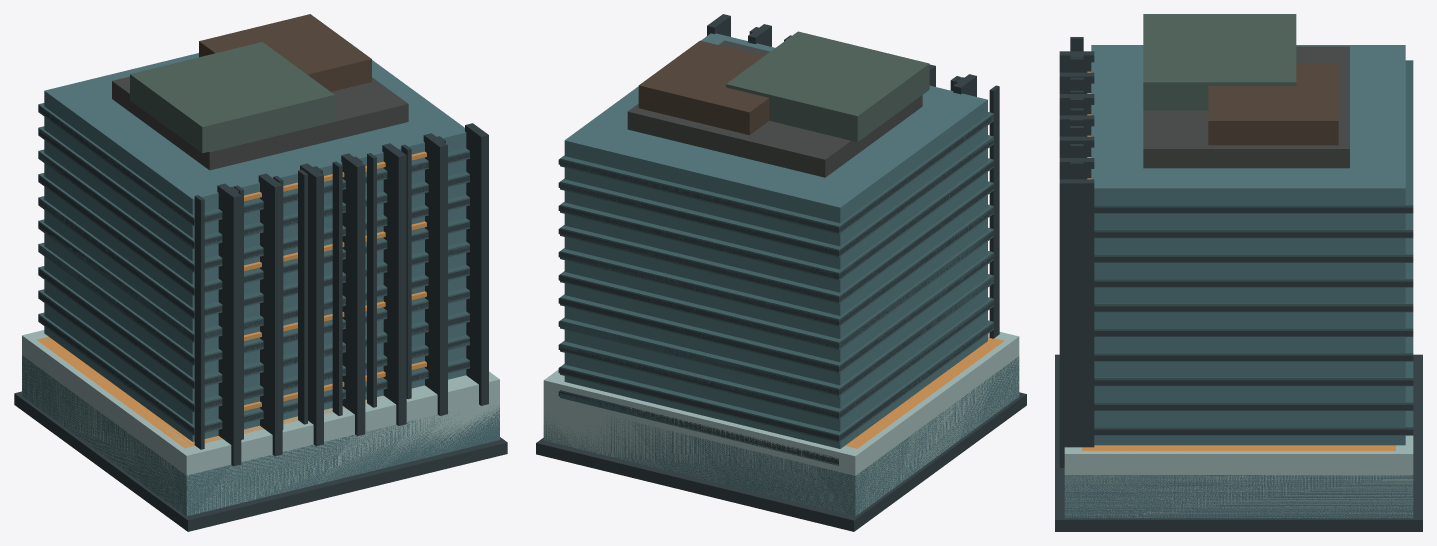
The model's file is curtain-wall-modules.glb.
The picture shows the model from 3 angles, left to right: view 1: azimuth 30°, elevation 25°; view 2: azimuth 150°, elevation 25°; view 3: azimuth 270°, elevation 25°; orthographic projection. The views are drawn at different scales.
Parts seen in each view (by area): view 1: miesian-grid-tower-smoked-curtain-glass-merged, bronze-fin-tower-dark-structural-steel-merged, miesian-grid-tower-dark-structural-steel-merged, transparent-podium-tower-clear-podium-glass-merged, blue-unitized-tower-blue-green-spandrel-merged, blue-unitized-tower-painted-metal-merged, blue-unitized-tower-dark-structural-steel-merged, bronze-fin-tower-smoked-curtain-glass-merged, bronze-fin-tower-weathered-bronze-merged, miesian-grid-tower-roof-membrane-merged, bronze-fin-tower-roof-membrane-merged, transparent-podium-tower-warm-interior-card-merged (+2 smaller); view 2: miesian-grid-tower-smoked-curtain-glass-merged, blue-unitized-tower-blue-green-spandrel-merged, miesian-grid-tower-dark-structural-steel-merged, transparent-podium-tower-clear-podium-glass-merged, blue-unitized-tower-painted-metal-merged, bronze-fin-tower-weathered-bronze-merged, miesian-grid-tower-roof-membrane-merged, bronze-fin-tower-smoked-curtain-glass-merged, bronze-fin-tower-dark-structural-steel-merged, bronze-fin-tower-roof-membrane-merged, transparent-podium-tower-warm-interior-card-merged; view 3: bronze-fin-tower-smoked-curtain-glass-merged, bronze-fin-tower-dark-structural-steel-merged, miesian-grid-tower-smoked-curtain-glass-merged, transparent-podium-tower-clear-podium-glass-merged, blue-unitized-tower-blue-green-spandrel-merged, blue-unitized-tower-painted-metal-merged, miesian-grid-tower-dark-structural-steel-merged, bronze-fin-tower-weathered-bronze-merged, bronze-fin-tower-roof-membrane-merged, miesian-grid-tower-roof-membrane-merged, transparent-podium-tower-warm-interior-card-merged, blue-unitized-tower-dark-structural-steel-merged.
Boxes of the visible parts, x1=… form: miesian-grid-tower-smoked-curtain-glass-merged: x1=22, y1=53, x2=499, y2=516; bronze-fin-tower-dark-structural-steel-merged: x1=217, y1=123, x2=488, y2=466; miesian-grid-tower-dark-structural-steel-merged: x1=14, y1=106, x2=507, y2=531; transparent-podium-tower-clear-podium-glass-merged: x1=22, y1=330, x2=499, y2=515; blue-unitized-tower-blue-green-spandrel-merged: x1=38, y1=103, x2=469, y2=435; blue-unitized-tower-painted-metal-merged: x1=130, y1=42, x2=334, y2=153; blue-unitized-tower-dark-structural-steel-merged: x1=229, y1=136, x2=445, y2=432; bronze-fin-tower-smoked-curtain-glass-merged: x1=81, y1=54, x2=466, y2=429; bronze-fin-tower-weathered-bronze-merged: x1=199, y1=14, x2=371, y2=91; miesian-grid-tower-roof-membrane-merged: x1=112, y1=76, x2=402, y2=170; bronze-fin-tower-roof-membrane-merged: x1=235, y1=77, x2=408, y2=163; transparent-podium-tower-warm-interior-card-merged: x1=36, y1=336, x2=386, y2=448; miesian-grid-tower-smoked-curtain-glass-merged: x1=543, y1=33, x2=1019, y2=516; blue-unitized-tower-blue-green-spandrel-merged: x1=560, y1=112, x2=993, y2=465; miesian-grid-tower-dark-structural-steel-merged: x1=536, y1=18, x2=1026, y2=531; transparent-podium-tower-clear-podium-glass-merged: x1=543, y1=332, x2=1019, y2=515; blue-unitized-tower-painted-metal-merged: x1=726, y1=31, x2=929, y2=142; bronze-fin-tower-weathered-bronze-merged: x1=638, y1=40, x2=769, y2=135; miesian-grid-tower-roof-membrane-merged: x1=633, y1=42, x2=922, y2=177; bronze-fin-tower-smoked-curtain-glass-merged: x1=564, y1=33, x2=956, y2=441; bronze-fin-tower-dark-structural-steel-merged: x1=558, y1=14, x2=976, y2=455; bronze-fin-tower-roof-membrane-merged: x1=627, y1=40, x2=824, y2=170; transparent-podium-tower-warm-interior-card-merged: x1=845, y1=337, x2=1004, y2=448; bronze-fin-tower-smoked-curtain-glass-merged: x1=1091, y1=60, x2=1405, y2=445; bronze-fin-tower-dark-structural-steel-merged: x1=1059, y1=51, x2=1413, y2=467; miesian-grid-tower-smoked-curtain-glass-merged: x1=1064, y1=45, x2=1413, y2=518; transparent-podium-tower-clear-podium-glass-merged: x1=1064, y1=435, x2=1413, y2=518; blue-unitized-tower-blue-green-spandrel-merged: x1=1094, y1=60, x2=1413, y2=435; blue-unitized-tower-painted-metal-merged: x1=1143, y1=14, x2=1296, y2=110; miesian-grid-tower-dark-structural-steel-merged: x1=1055, y1=37, x2=1422, y2=531; bronze-fin-tower-weathered-bronze-merged: x1=1208, y1=63, x2=1338, y2=145; bronze-fin-tower-roof-membrane-merged: x1=1143, y1=59, x2=1349, y2=168; miesian-grid-tower-roof-membrane-merged: x1=1143, y1=46, x2=1349, y2=145; transparent-podium-tower-warm-interior-card-merged: x1=1082, y1=445, x2=1395, y2=450; blue-unitized-tower-dark-structural-steel-merged: x1=1070, y1=55, x2=1083, y2=179.
Bounding box in the file's own units: 1.02 × 1.1 × 0.96.
